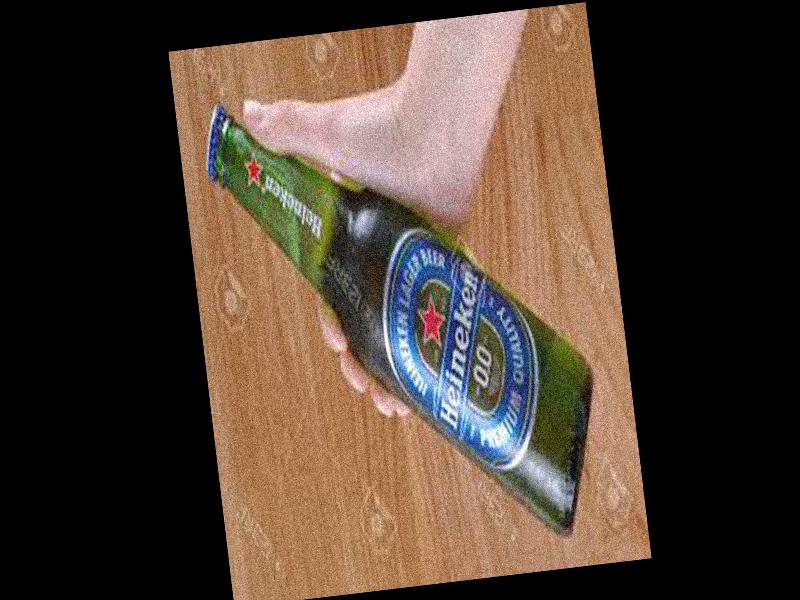Beer: (198, 66, 613, 571)
